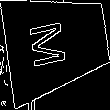M_E: (34, 17, 79, 71)
